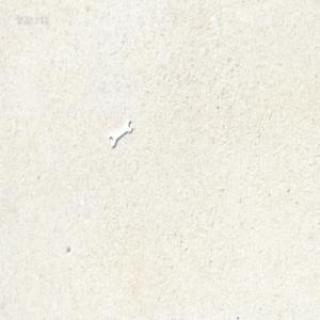Wrenchtrack_idkeyframe: (107, 116, 131, 146)
